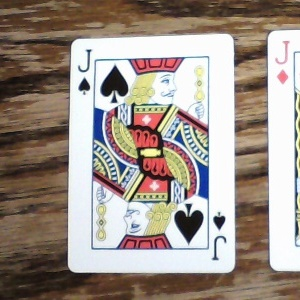card: (65, 30, 235, 275)
